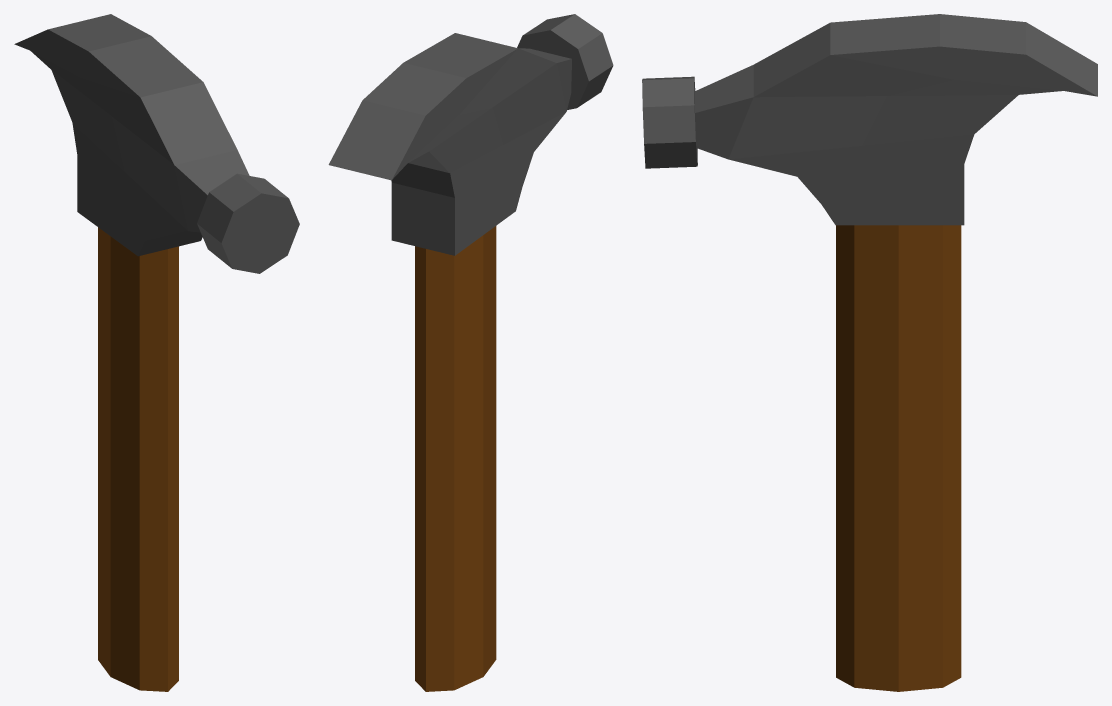
File: martillo.fbx
3 renders of one model, left to right at view 1: azimuth 30°, elevation 25°; view 2: azimuth 150°, elevation 25°; view 3: azimuth 270°, elevation 25°, orthographic. The views are drawn at different scales.
Visible parts, largest first — view 1: Cylinder; view 2: Cylinder; view 3: Cylinder.
Part boxes in pixels (x1,y1,x2,y2): Cylinder: (14, 14, 299, 691); Cylinder: (328, 14, 613, 691); Cylinder: (642, 14, 1097, 691).
Bounding box in the file's own units: 59.43 × 443 × 282.
